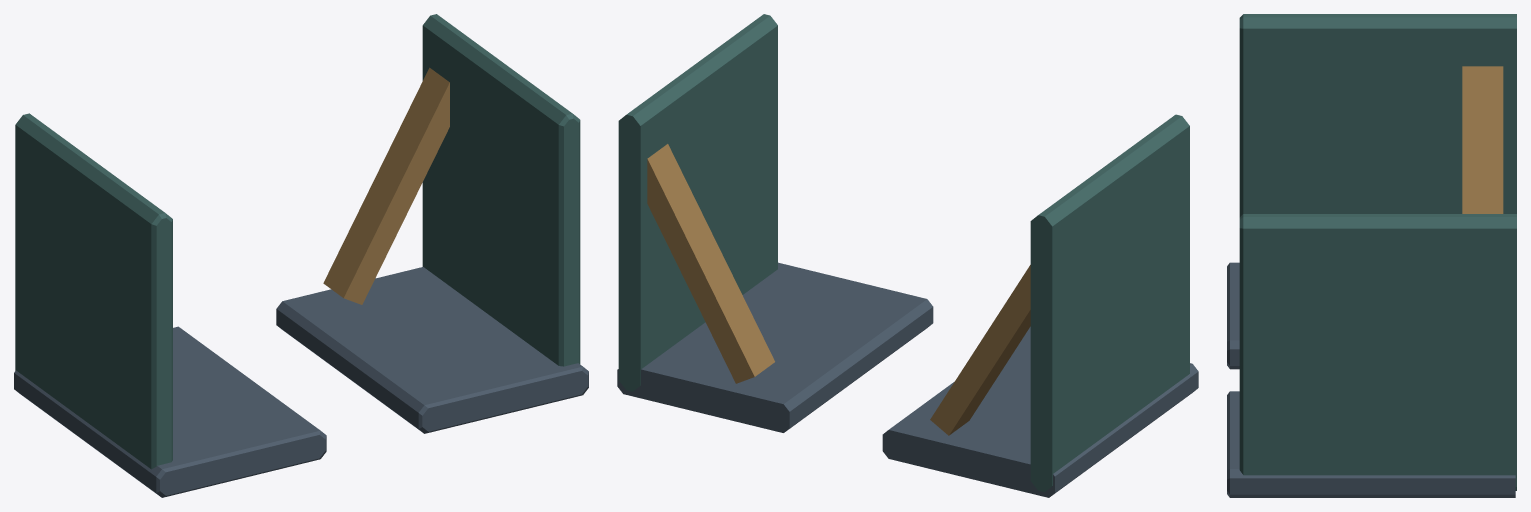
The model's file is H-08_bookends.glb.
The picture shows the model from 3 angles, left to right: view 1: azimuth 30°, elevation 25°; view 2: azimuth 150°, elevation 25°; view 3: azimuth 270°, elevation 25°; orthographic projection.
Parts seen in each view (by area): view 1: H-08_bookends; view 2: H-08_bookends; view 3: H-08_bookends.
Part boxes in pixels (x1,y1,x2,y2): H-08_bookends: (14, 14, 588, 497); H-08_bookends: (617, 14, 1198, 497); H-08_bookends: (1227, 14, 1516, 497).
Size of the model in its own units: 0.221 by 0.1355 by 0.1275.
